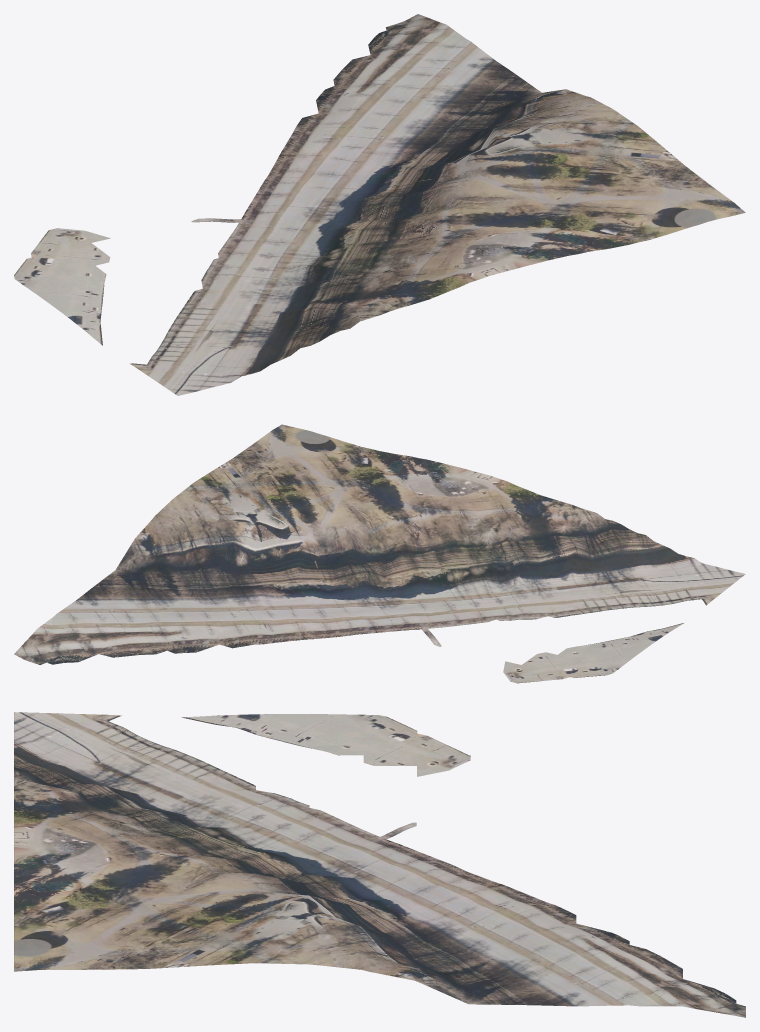
File: CM_Terrain_24486568_6821636.fbx
3 renders of one model, top to bottom at view 1: azimuth 30°, elevation 25°; view 2: azimuth 150°, elevation 25°; view 3: azimuth 270°, elevation 25°, orthographic. The views are drawn at different scales.
Visible parts, largest first — view 1: CM_Terrain_24486568_6821636_LOD0; view 2: CM_Terrain_24486568_6821636_LOD0; view 3: CM_Terrain_24486568_6821636_LOD0.
Part boxes in pixels (box(x1,y1,x2,y2)): CM_Terrain_24486568_6821636_LOD0: box(14, 14, 745, 395); CM_Terrain_24486568_6821636_LOD0: box(14, 424, 745, 683); CM_Terrain_24486568_6821636_LOD0: box(14, 712, 745, 1017).
Size of what is drawn, in the model's own units: 205 by 19.72 by 205.
